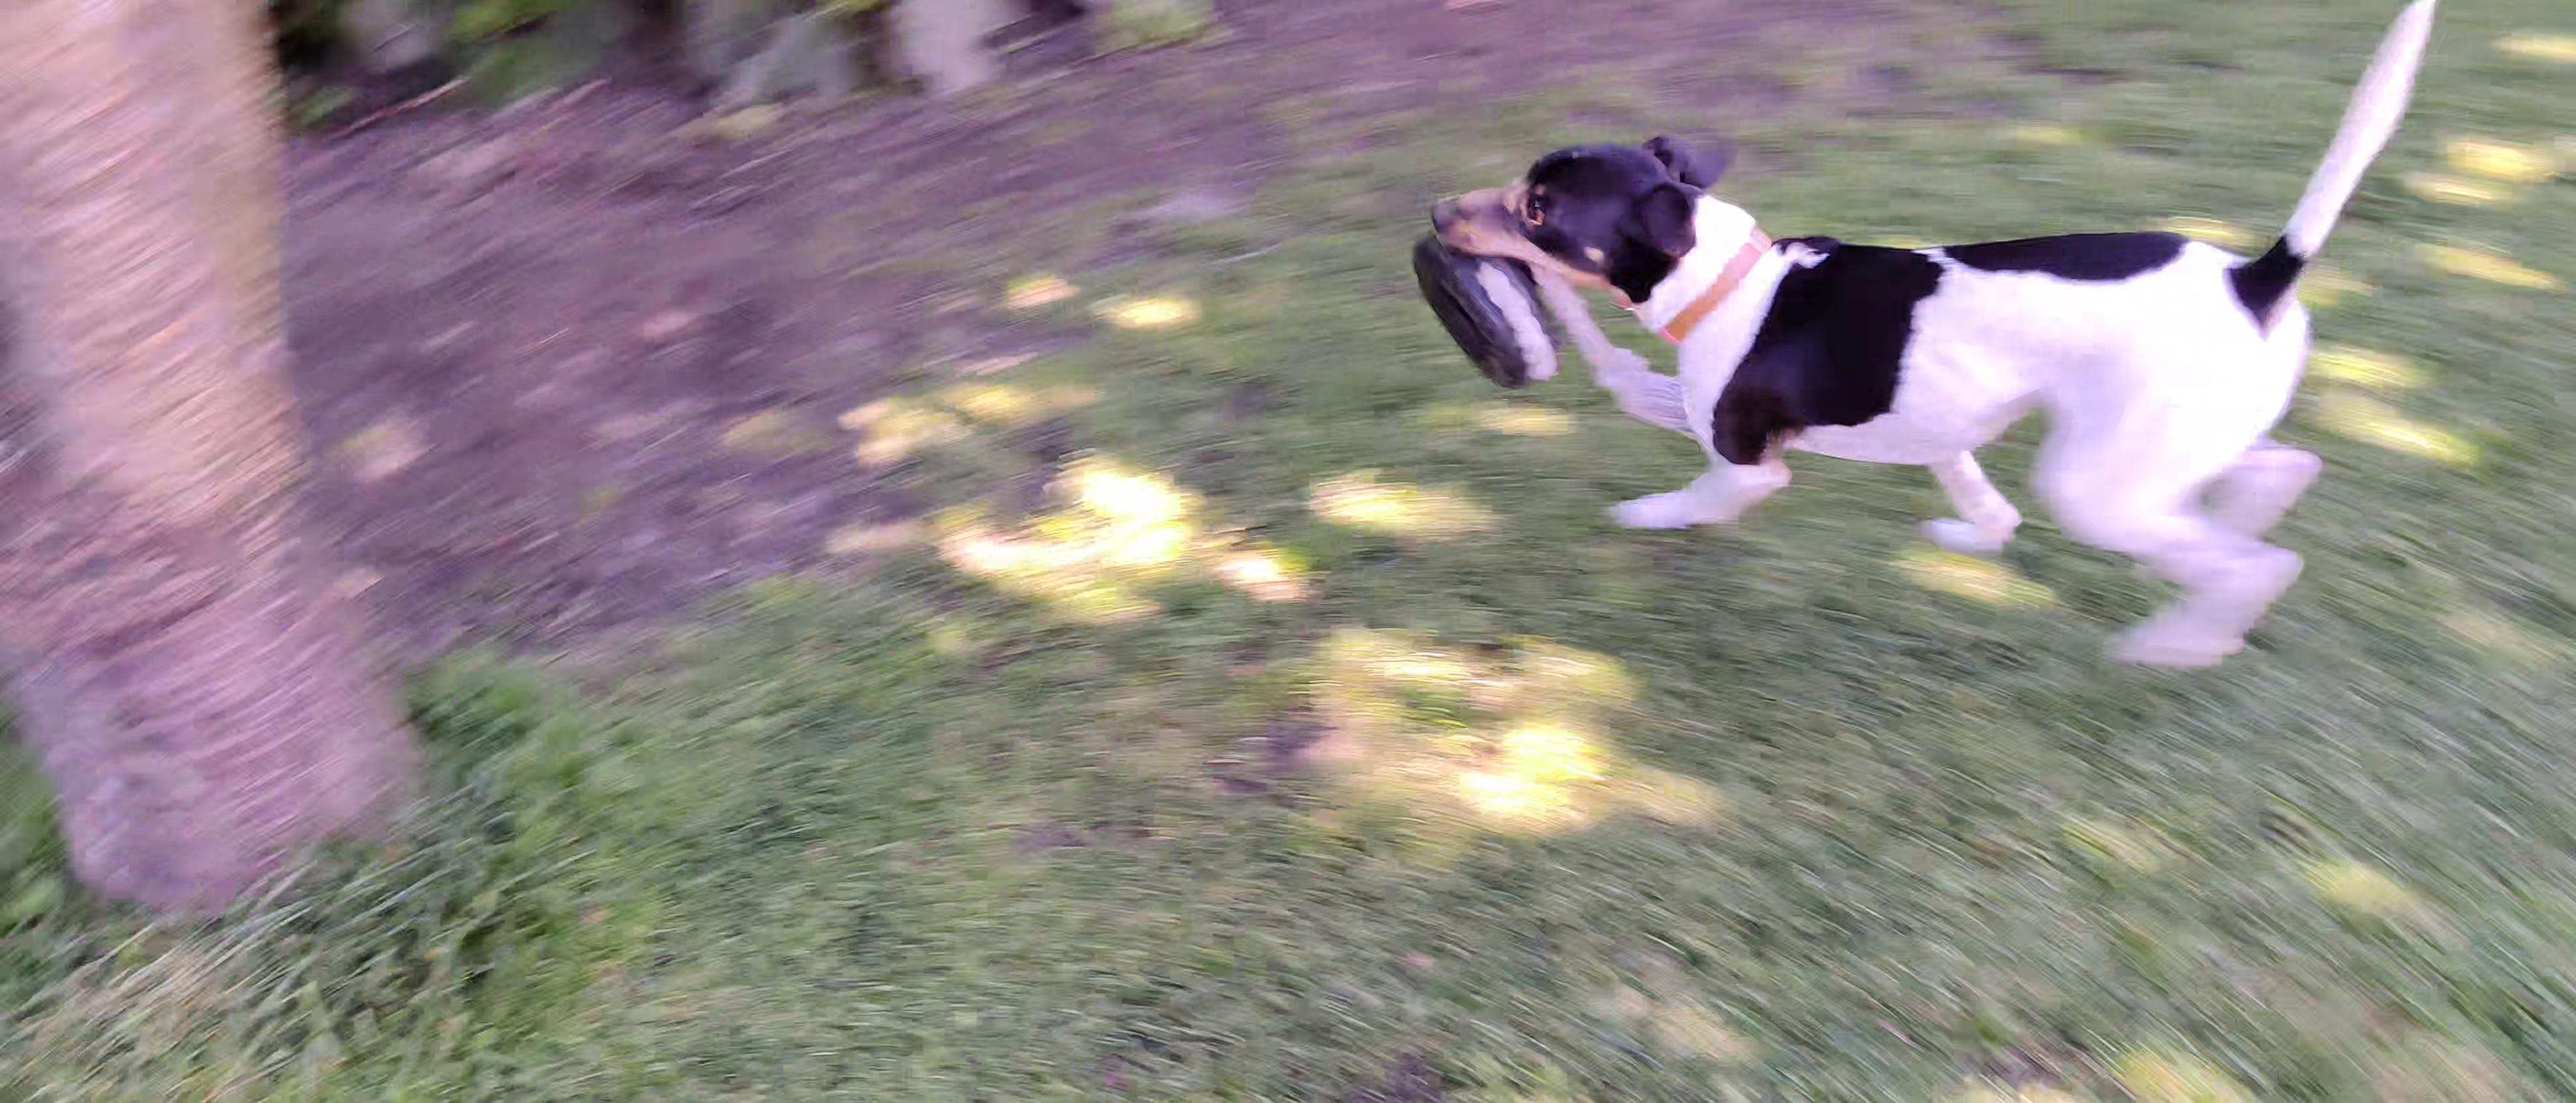Dog: (1421, 0, 2451, 690)
